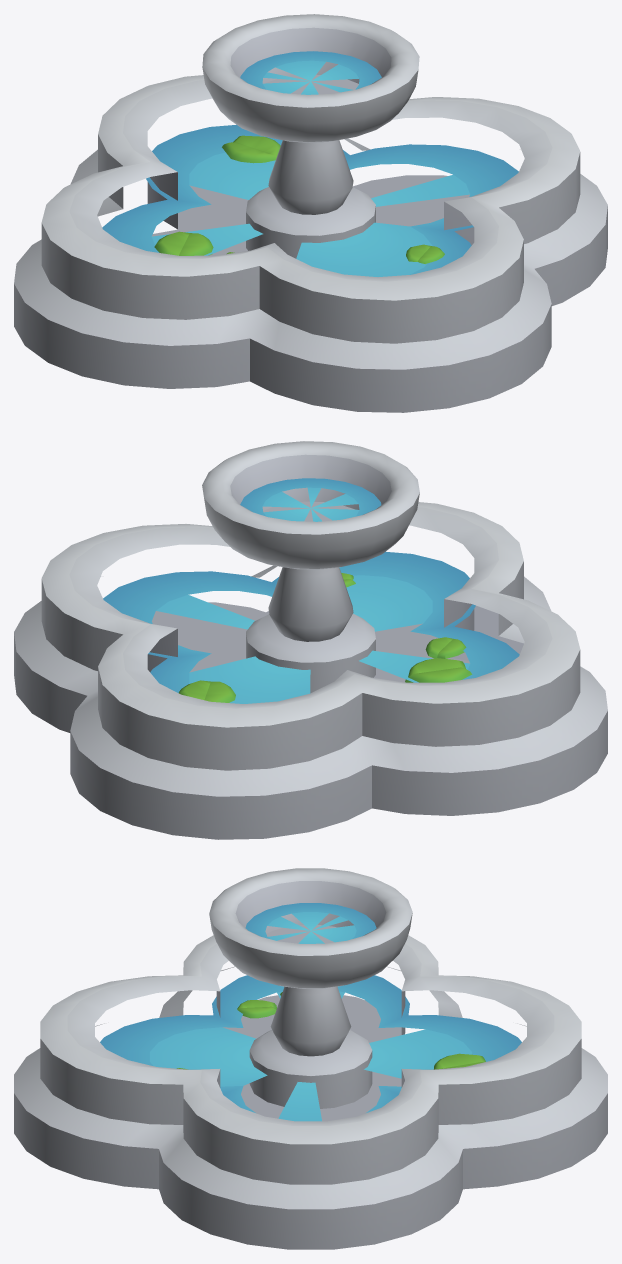
File: fountain.glb
3 renders of one model, top to bottom at view 1: azimuth 30°, elevation 25°; view 2: azimuth 150°, elevation 25°; view 3: azimuth 270°, elevation 25°, orthographic. The views are drawn at different scales.
Visible parts, largest first — view 1: fountain; view 2: fountain; view 3: fountain.
Boxes of the visible parts, left/top/right/bottom form: fountain: left=14, top=14, right=607, bottom=412; fountain: left=14, top=441, right=607, bottom=839; fountain: left=14, top=868, right=607, bottom=1249.
Bounding box in the file's own units: 1 × 0.4 × 1.
1 material, 1 textured.
